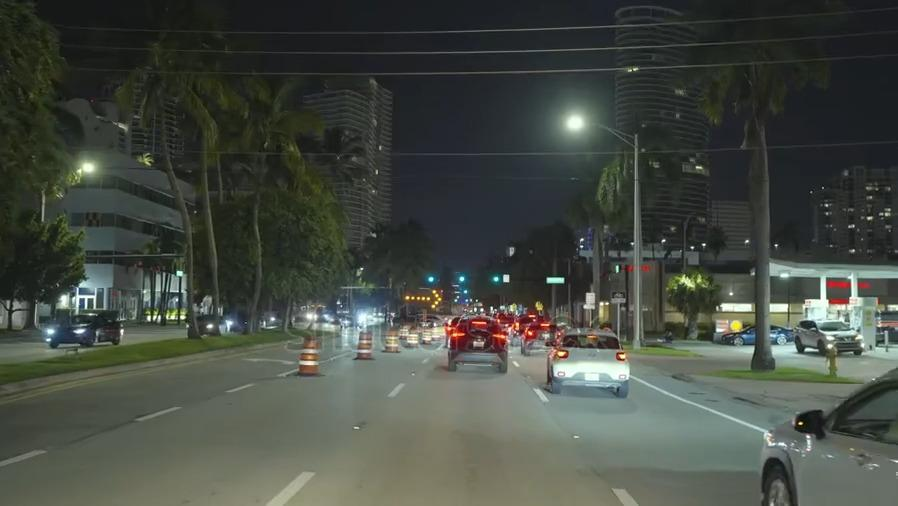car: (761, 371, 898, 506), (549, 327, 631, 396), (449, 313, 504, 372), (45, 312, 127, 348), (793, 317, 863, 358), (721, 322, 791, 347), (522, 320, 558, 358), (184, 314, 227, 337), (403, 287, 443, 311)
cone: (299, 332, 319, 376), (355, 328, 375, 359), (384, 327, 398, 355), (405, 324, 419, 351)
wheel: (760, 464, 791, 506)
